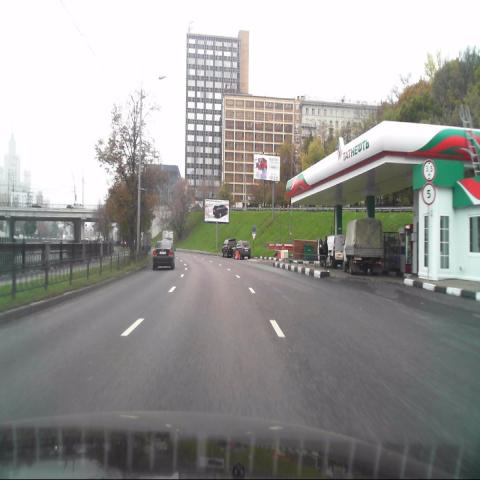3_13: (422, 160, 436, 182)
